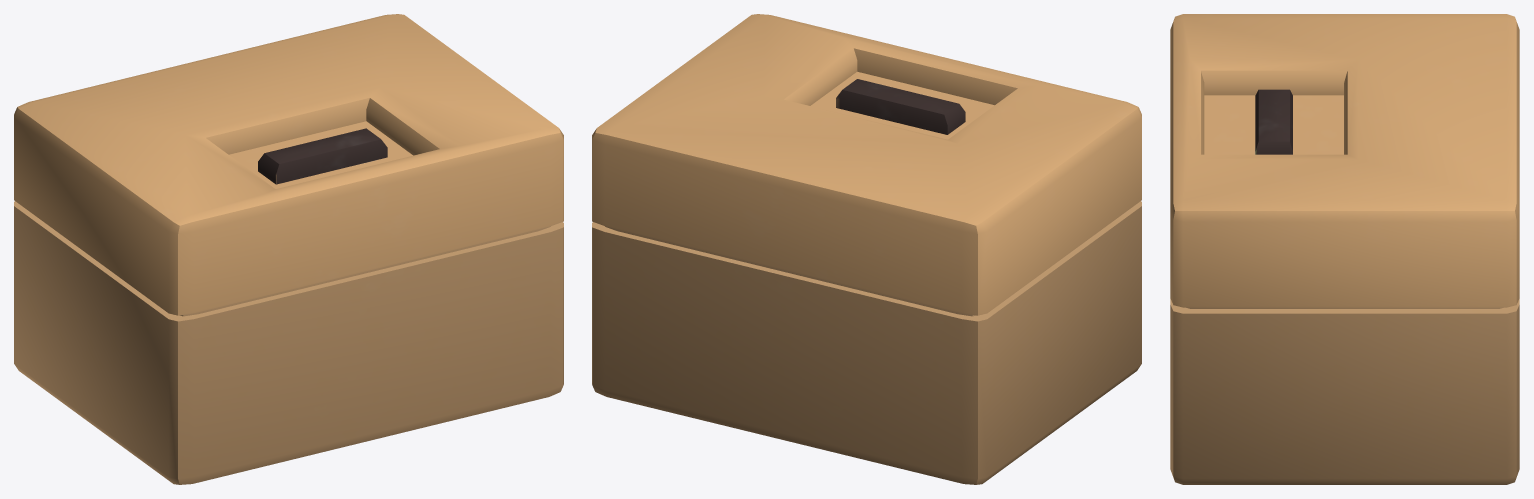
File: Shelf Item (11).fbx
The picture shows the model from 3 angles, left to right: view 1: azimuth 30°, elevation 25°; view 2: azimuth 150°, elevation 25°; view 3: azimuth 270°, elevation 25°; orthographic projection. The views are drawn at different scales.
Visible parts, largest first — view 1: Object129; view 2: Object129; view 3: Object129.
Boxes of the visible parts, left/top/right/bottom form: Object129: left=14, top=14, right=563, bottom=484; Object129: left=592, top=14, right=1141, bottom=484; Object129: left=1170, top=14, right=1519, bottom=484.
Bounding box in the file's own units: 14.55 × 9.41 × 10.65.
